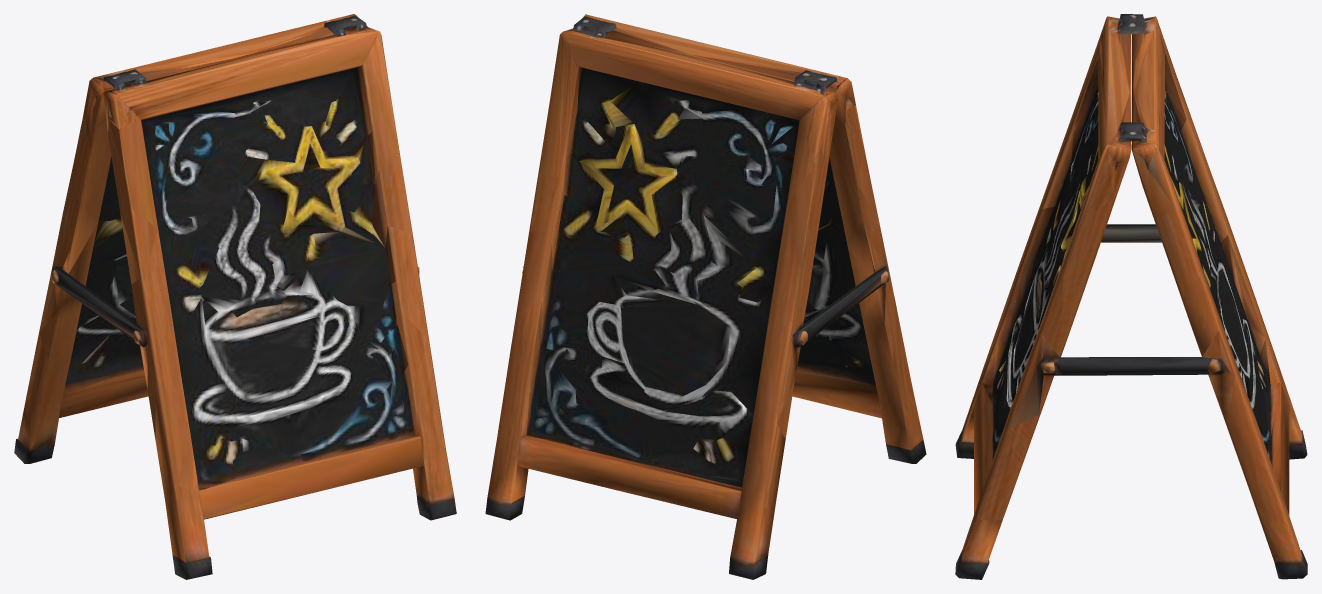
The model's file is a_frame_sign_a.glb.
The picture shows the model from 3 angles, left to right: view 1: azimuth 30°, elevation 25°; view 2: azimuth 150°, elevation 25°; view 3: azimuth 270°, elevation 25°; orthographic projection.
Visible parts, largest first — view 1: a_frame_sign_a; view 2: a_frame_sign_a; view 3: a_frame_sign_a.
Part boxes in pixels (x1,y1,x2,y2): a_frame_sign_a: [14, 14, 456, 579]; a_frame_sign_a: [485, 14, 926, 579]; a_frame_sign_a: [955, 14, 1307, 579].
Size of what is drawn, in the model's own units: 0.575 by 0.8497 by 0.6171.
Materials: 1 (1 with a texture image).
